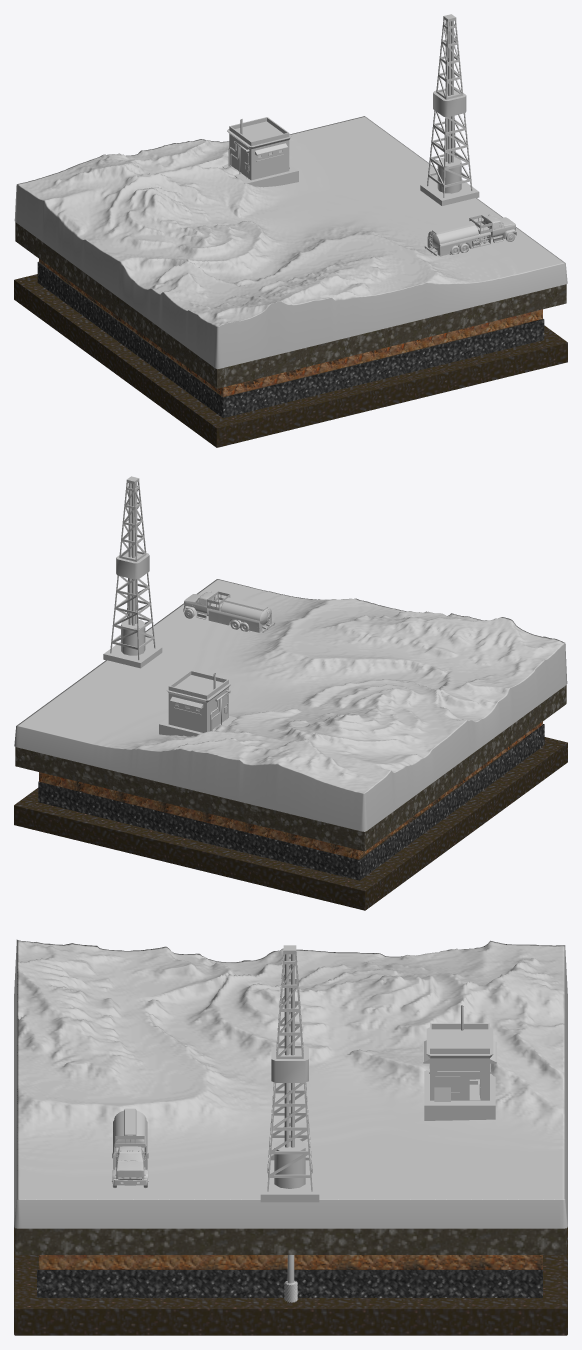
Rendered from Escenario-3.fbx.
3 views of the same model, one above another, from view 1: azimuth 30°, elevation 25°; view 2: azimuth 150°, elevation 25°; view 3: azimuth 270°, elevation 25° (orthographic). The views are drawn at different scales.
Parts seen in each view (by area): view 1: Terreno_2_p, pCube5, pCube1, BossOutput, torre, pCube4, Cube1, truck; view 2: Terreno_2_p, pCube5, pCube1, BossOutput, torre, pCube4, Cube1, truck; view 3: Terreno_2_p, pCube5, pCube1, BossOutput, torre, pCube4, Cube1, truck, MillingCutter.
Boxes of the visible parts, x1,y1,x2,y2 form: Terreno_2_p: (14, 116, 567, 368); pCube5: (14, 274, 567, 447); pCube1: (15, 222, 566, 388); BossOutput: (37, 261, 544, 418); torre: (420, 14, 479, 205); pCube4: (39, 259, 542, 396); Cube1: (222, 117, 298, 187); truck: (424, 214, 516, 256); Terreno_2_p: (14, 579, 567, 831); pCube5: (14, 737, 567, 910); pCube1: (15, 685, 566, 851); BossOutput: (38, 724, 544, 880); torre: (103, 476, 162, 668); pCube4: (39, 721, 542, 859); Cube1: (159, 670, 237, 736); truck: (183, 591, 275, 632); Terreno_2_p: (14, 939, 567, 1228); pCube5: (14, 1227, 567, 1335); pCube1: (15, 1228, 566, 1254); BossOutput: (37, 1255, 542, 1297); torre: (260, 945, 319, 1202); pCube4: (39, 1255, 542, 1269); Cube1: (423, 1005, 496, 1120); truck: (112, 1108, 148, 1185); MillingCutter: (284, 1255, 297, 1302).
Bounding box in the file's own units: 2007 × 1499 × 2000.
